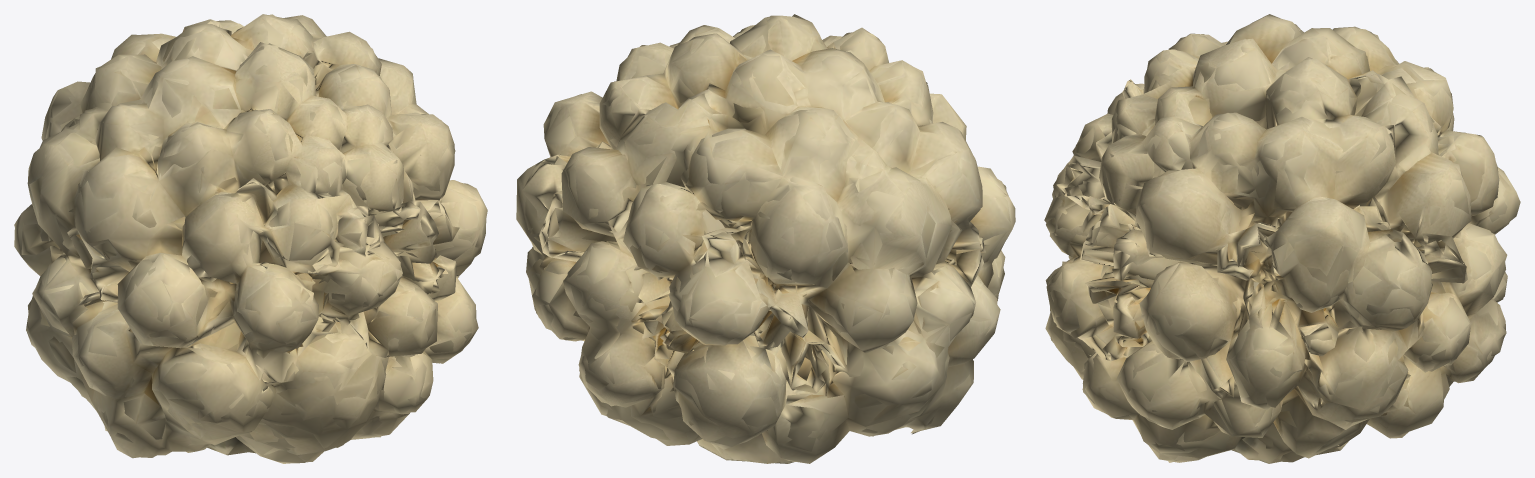
The model's file is mushroom_krause_glucke.glb.
The picture shows the model from 3 angles, left to right: view 1: azimuth 30°, elevation 25°; view 2: azimuth 150°, elevation 25°; view 3: azimuth 270°, elevation 25°; orthographic projection. The views are drawn at different scales.
Parts seen in each view (by area): view 1: mushroom_krause_glucke_0; view 2: mushroom_krause_glucke_0; view 3: mushroom_krause_glucke_0.
Boxes of the visible parts, left/top/right/bottom form: mushroom_krause_glucke_0: left=14, top=14, right=487, bottom=463; mushroom_krause_glucke_0: left=516, top=14, right=1015, bottom=463; mushroom_krause_glucke_0: left=1044, top=14, right=1520, bottom=463.
Size of the model in its own units: 0.3443 by 0.32 by 0.3485.
1 material, 1 textured.
